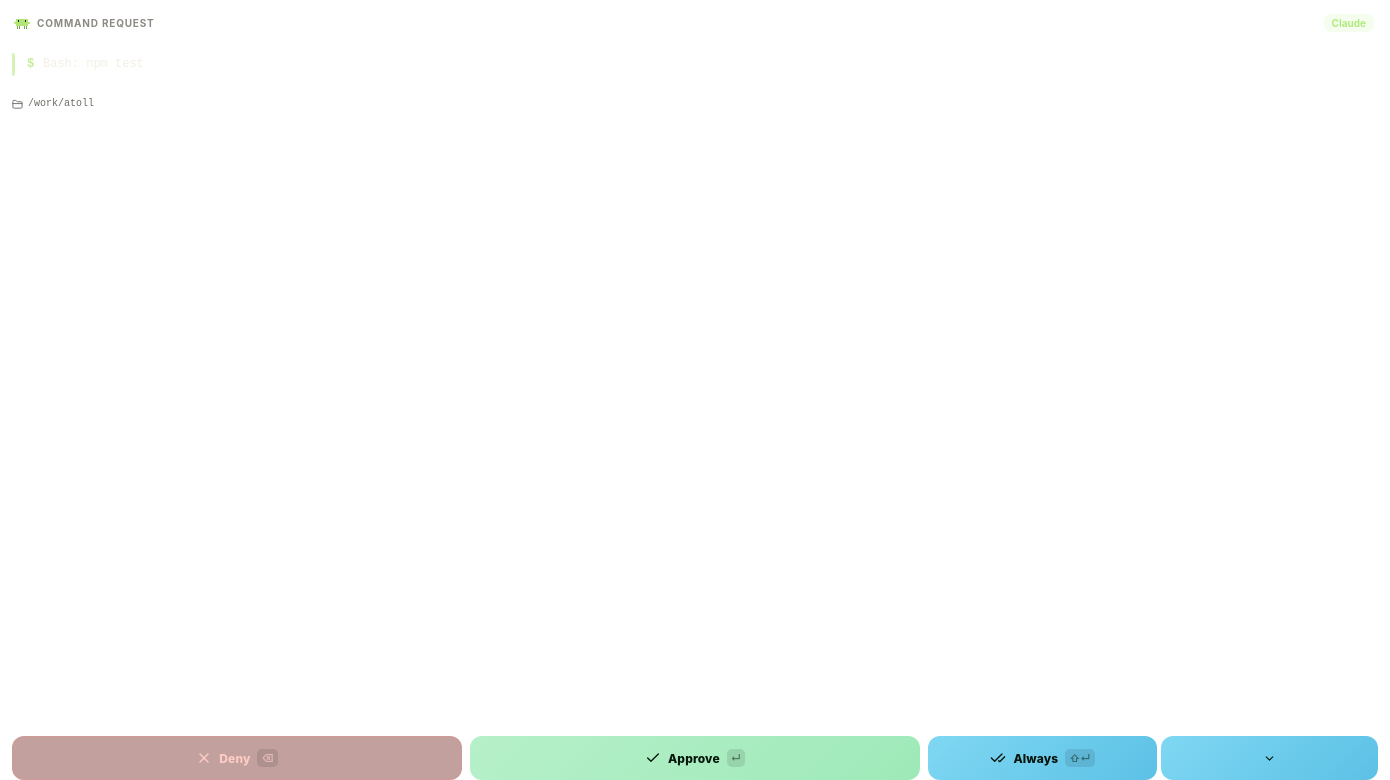
Test: ApprovalCard rule scope menu › opens the scope menu from the chevron and creates a rule for the chosen scope
Click the button named "Always allow with a rule" at (1270, 758), box x1=1161 y1=736 x2=1378 y2=779
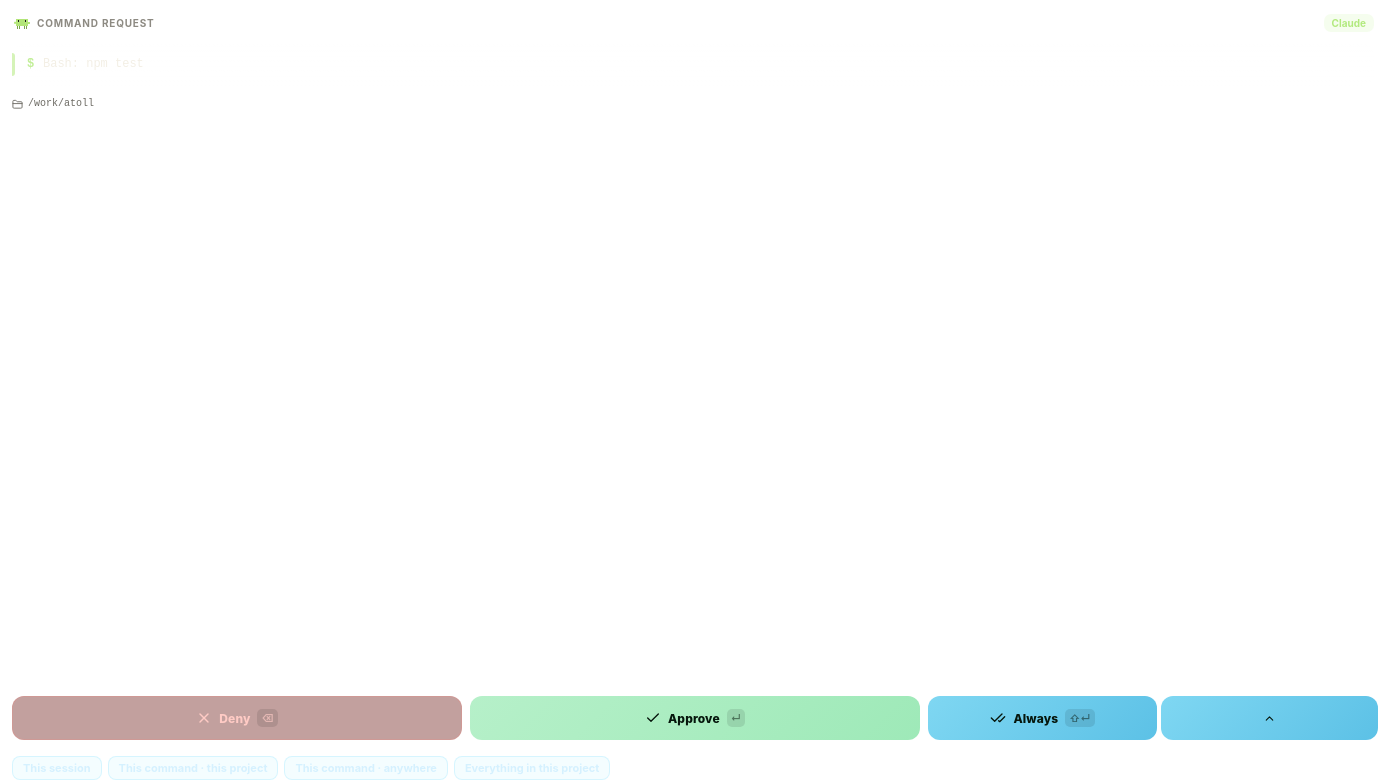
Expected: the button "This command · this project" is shown
Expected: the button "Everything in this project" is shown, x1=454 y1=756 x2=610 y2=779
Click the button "This command · this project" at (193, 768), box x1=108 y1=756 x2=278 y2=779
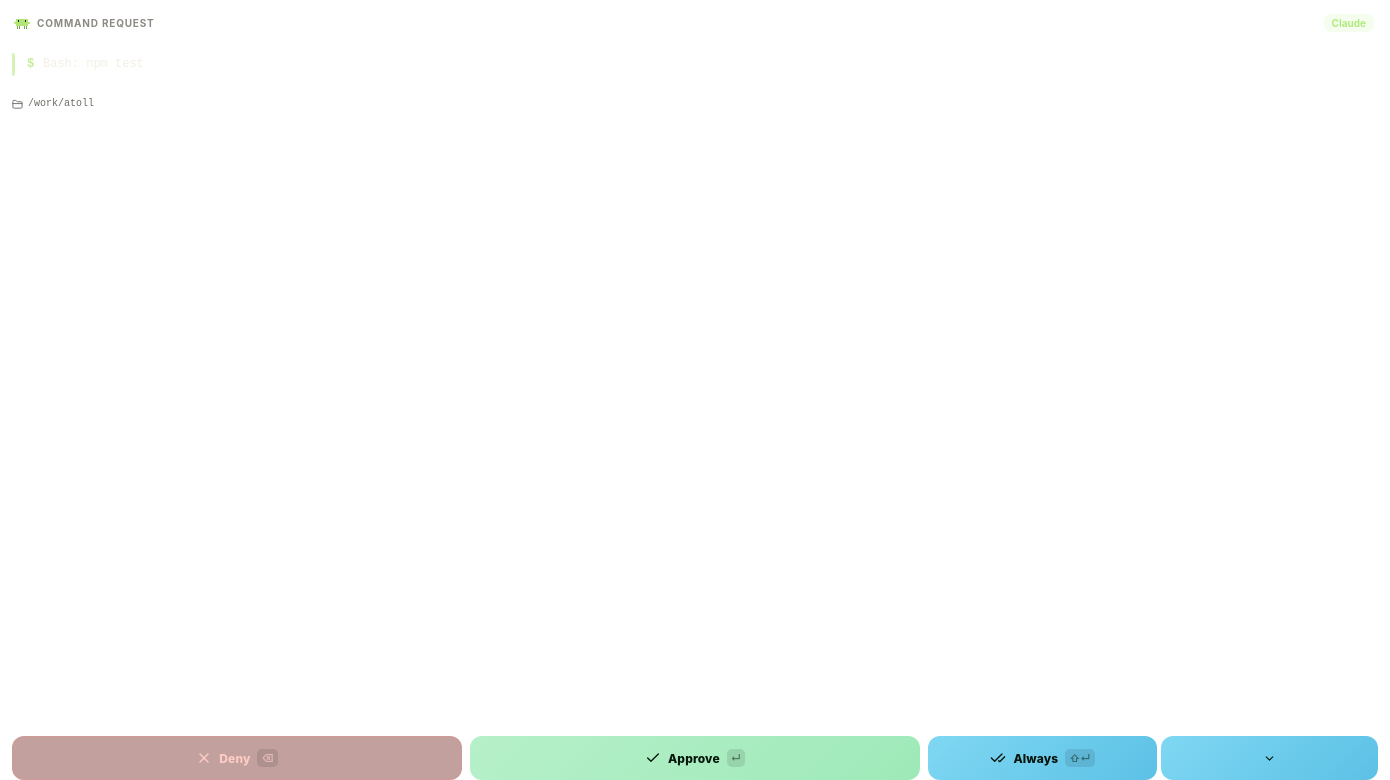
Expected: the button "This command · anywhere" is gone
